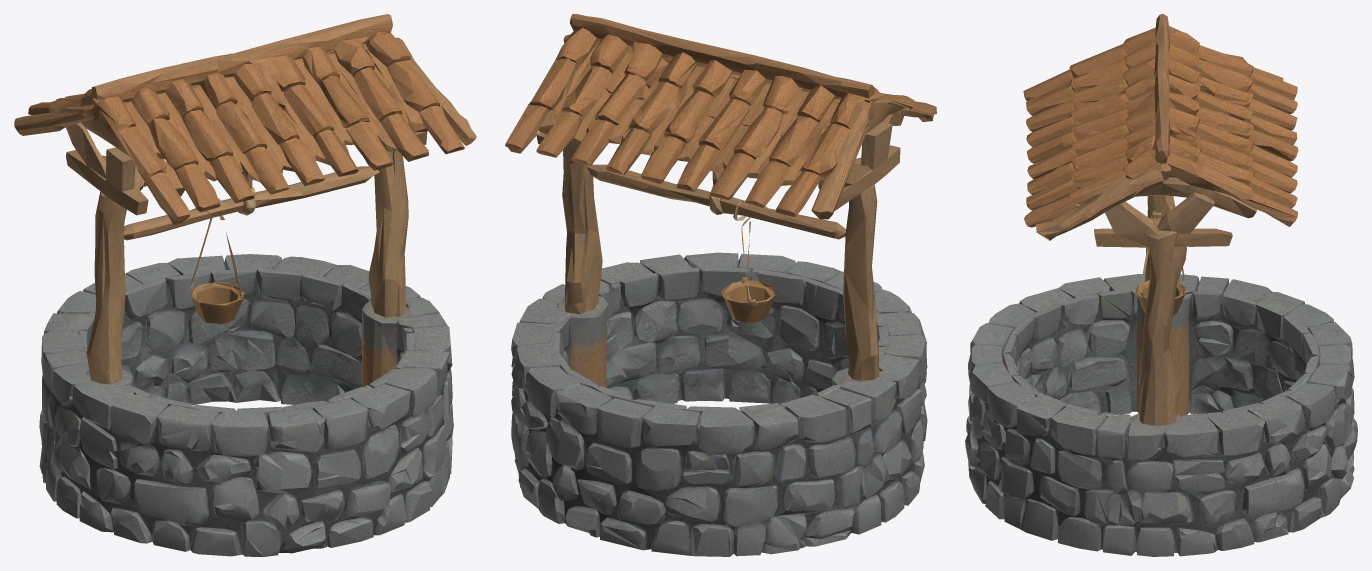
File: well.glb
The picture shows the model from 3 angles, left to right: view 1: azimuth 30°, elevation 25°; view 2: azimuth 150°, elevation 25°; view 3: azimuth 270°, elevation 25°; orthographic projection. The views are drawn at different scales.
Visible parts, largest first — view 1: output_unwrapped; view 2: output_unwrapped; view 3: output_unwrapped.
Part boxes in pixels (box(x1,y1,x2,y2)): output_unwrapped: box(14, 14, 476, 556); output_unwrapped: box(505, 14, 936, 556); output_unwrapped: box(965, 14, 1357, 556).
Size of the model in its own units: 1.7 by 1.9 by 1.72.
Materials: 1 (1 with a texture image).
